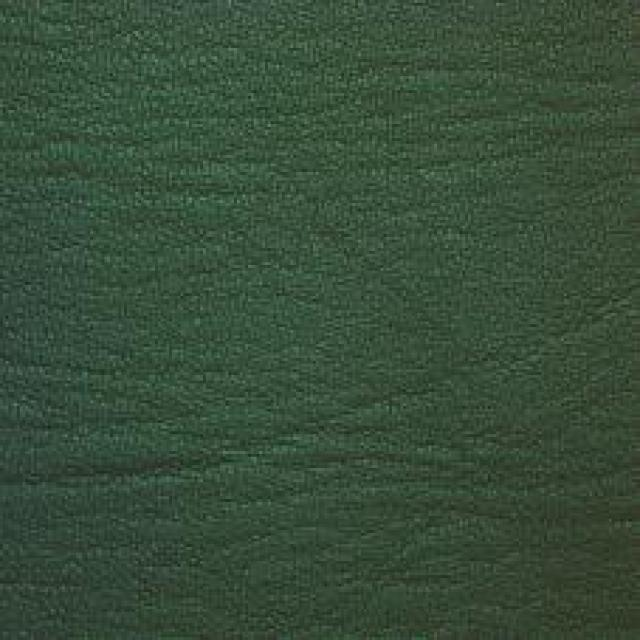Growth Marks: (361, 36, 615, 184), (400, 421, 624, 547), (43, 412, 280, 526)
